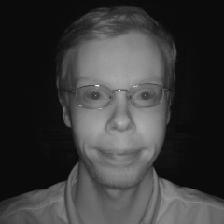happy: (47, 3, 190, 194)
